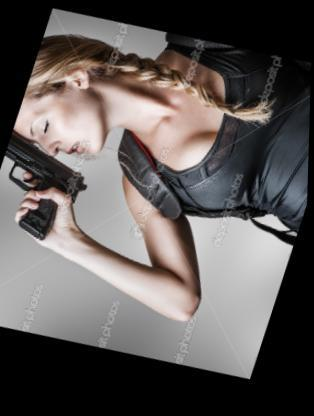pistol: (0, 119, 101, 264)
